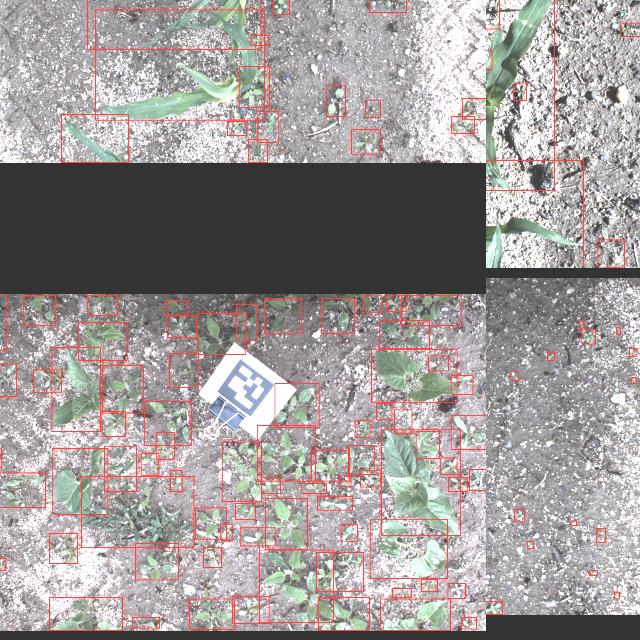crop: (94, 10, 264, 120), (486, 0, 554, 190), (486, 160, 582, 268), (380, 429, 460, 535), (87, 0, 260, 49), (369, 519, 447, 579), (370, 348, 456, 402), (50, 346, 100, 432), (52, 448, 108, 514), (61, 115, 128, 163), (380, 599, 450, 631), (77, 322, 126, 360)
weed: (81, 477, 193, 548), (258, 550, 332, 622), (256, 425, 314, 481), (221, 441, 261, 501), (48, 598, 122, 630), (264, 498, 306, 550), (144, 400, 190, 446), (274, 382, 318, 428), (101, 365, 142, 413), (197, 314, 246, 354), (316, 552, 362, 592), (400, 295, 460, 325), (317, 598, 368, 630), (134, 544, 178, 580), (0, 472, 44, 507), (188, 598, 234, 630), (104, 446, 136, 492), (378, 320, 428, 348), (238, 66, 270, 108), (450, 415, 486, 449), (264, 298, 300, 332), (321, 297, 354, 333), (311, 450, 349, 480), (168, 353, 198, 387), (22, 295, 56, 325), (232, 596, 268, 624), (194, 508, 226, 538), (49, 533, 77, 563), (597, 240, 623, 268), (347, 446, 373, 474), (350, 130, 380, 154), (236, 304, 256, 340), (166, 315, 196, 337), (32, 370, 62, 392), (240, 528, 276, 546), (100, 412, 126, 436), (415, 432, 439, 458), (325, 85, 345, 116), (258, 111, 278, 142), (87, 295, 117, 315), (154, 432, 173, 460), (0, 363, 16, 396), (461, 98, 486, 119), (316, 496, 352, 510), (368, 0, 405, 12), (450, 375, 472, 395), (393, 409, 411, 433), (451, 116, 474, 134), (248, 140, 266, 162), (468, 469, 486, 491), (140, 453, 158, 475), (486, 0, 499, 29), (260, 476, 280, 494), (386, 294, 406, 312), (362, 294, 382, 312), (203, 547, 221, 567), (359, 469, 379, 486), (165, 300, 188, 314), (235, 504, 255, 520), (339, 524, 356, 542), (448, 476, 467, 492), (619, 22, 640, 36), (364, 100, 380, 118), (226, 121, 246, 135), (427, 356, 447, 370), (439, 458, 456, 474), (354, 419, 370, 436), (170, 470, 182, 492), (300, 483, 326, 493), (132, 618, 158, 628), (272, 0, 289, 15), (512, 83, 526, 101), (447, 584, 465, 598), (376, 402, 390, 420), (486, 601, 502, 614), (391, 588, 411, 598), (581, 329, 595, 343), (421, 579, 437, 591), (220, 524, 232, 540), (250, 35, 268, 45), (460, 618, 476, 628), (338, 476, 350, 486), (514, 510, 524, 522), (596, 529, 604, 543), (510, 372, 518, 381), (546, 352, 554, 360), (0, 558, 5, 570), (578, 320, 584, 330), (630, 348, 636, 356), (526, 541, 532, 549), (589, 570, 597, 576), (630, 377, 636, 383), (570, 520, 576, 526), (616, 326, 620, 334), (614, 592, 618, 600)
